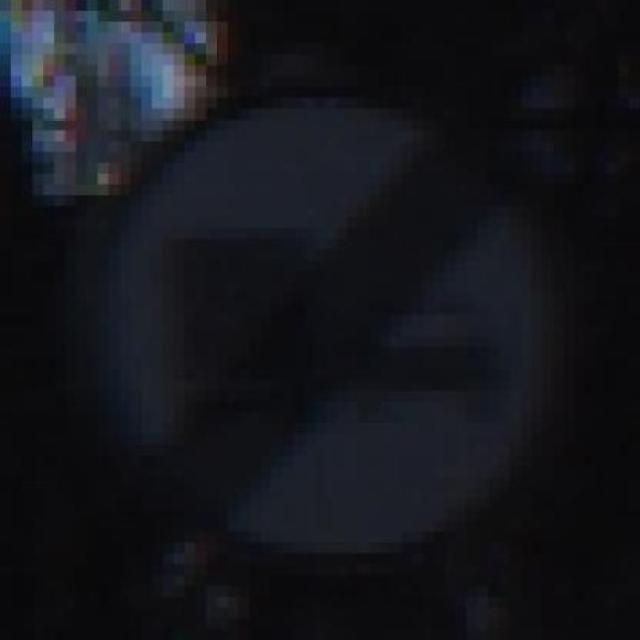Overtaking by trucks is prohibited: (54, 97, 575, 597)
